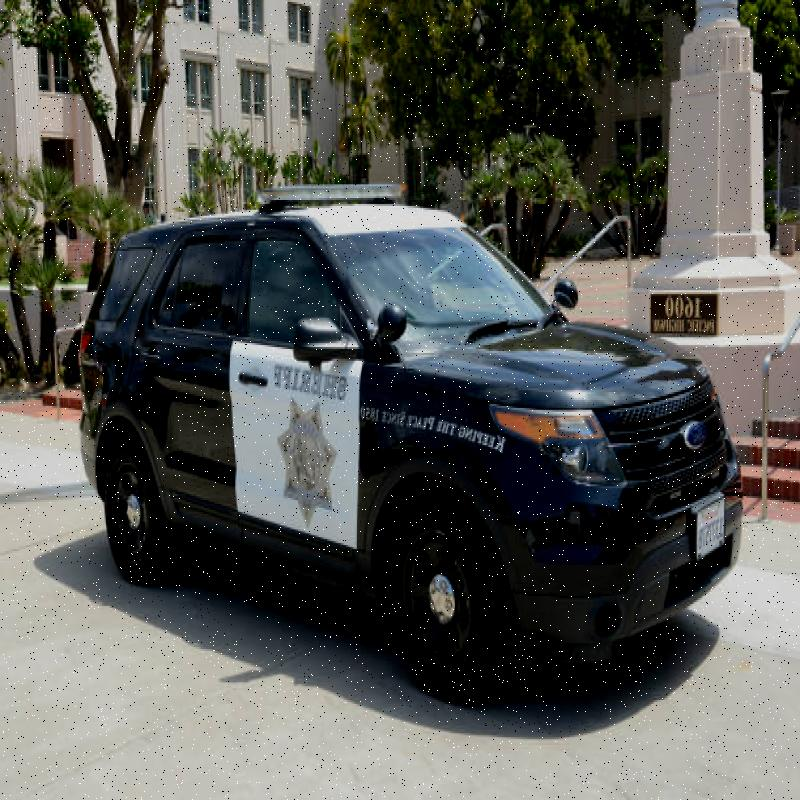AmbulanceSiren: (251, 165, 421, 218)
